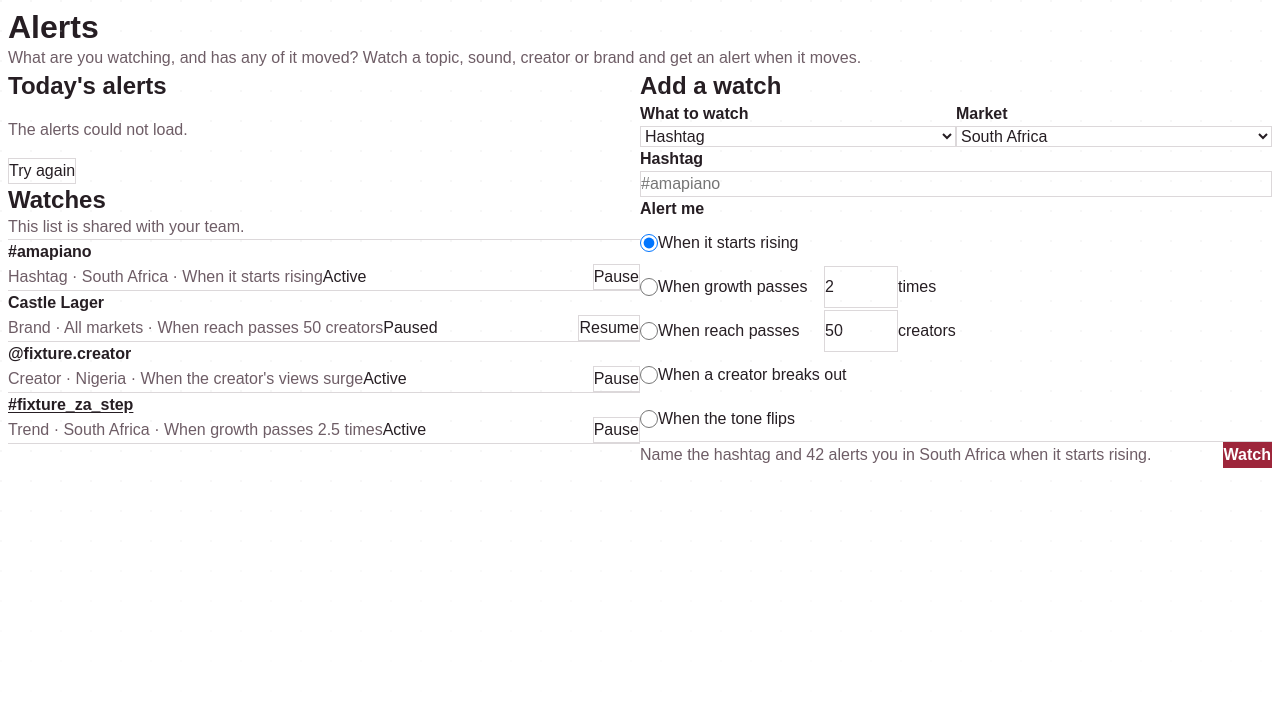
Test: alerts that cannot load say so and offer Try again, like the watches
Expected: the message "The alerts could not load." is shown, [8,121,188,138]
Click the button "Try again". click: click(42, 171)
box: [8,158,76,184]
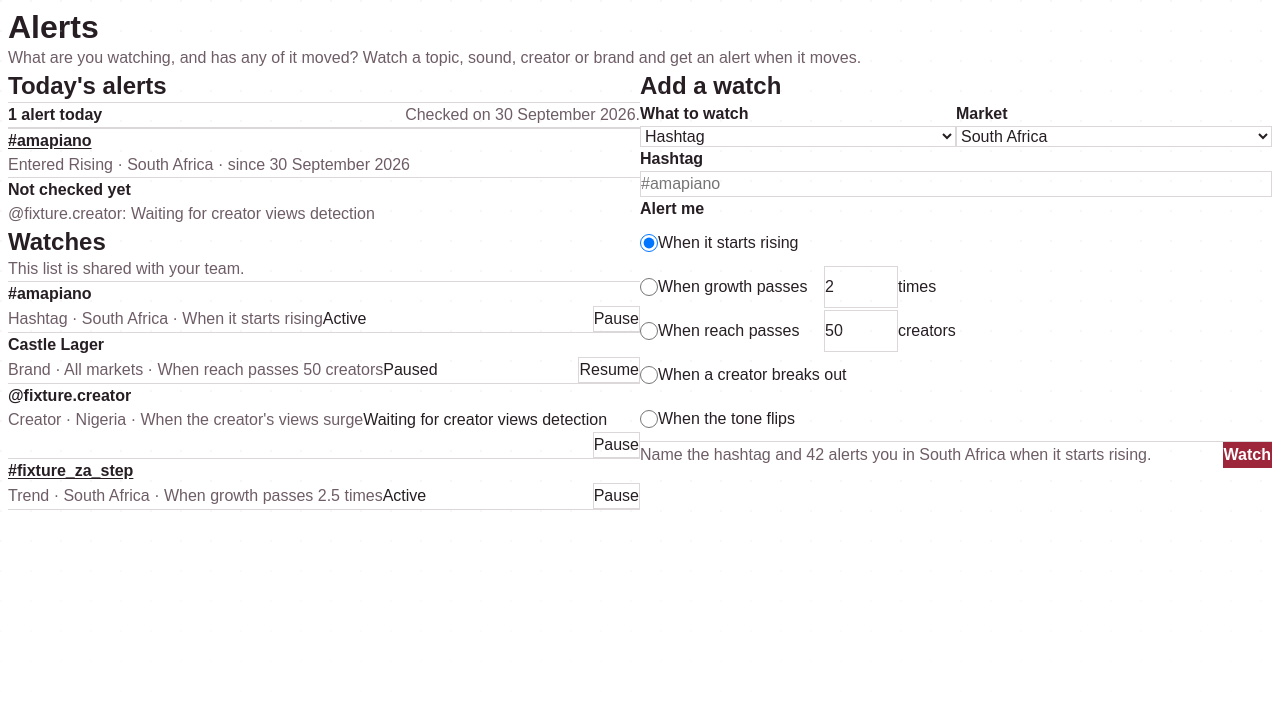
Expected: the element that starts with "Today's alerts" shows "1 alert today", [8,106,102,123]
